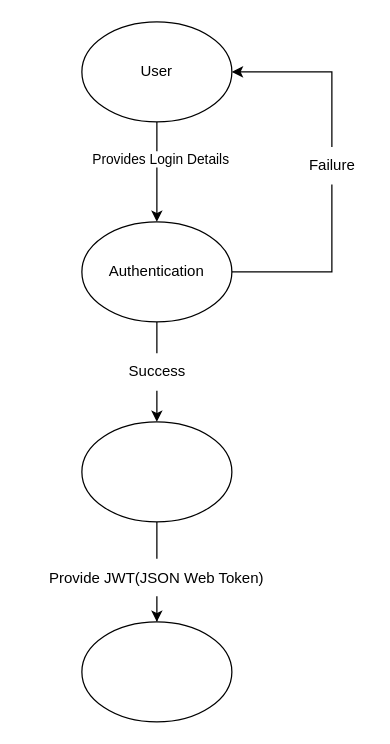
The diagram is 390 pixels wide and 744 high, and some of its shapes have lost their labels. Here are the shapes that lost their labels. From the top down, the box of each, then its label:
(81, 421, 232, 522): Authorization
(81, 621, 232, 722): Redirect to home page
